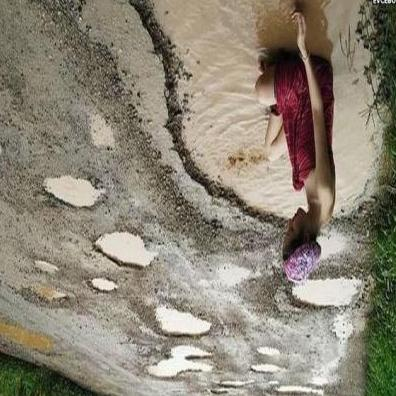pothole: (134, 0, 395, 240), (288, 277, 369, 317), (146, 343, 218, 387), (42, 173, 102, 215), (150, 304, 213, 342), (96, 229, 157, 267), (16, 285, 74, 312), (274, 383, 322, 396), (87, 275, 121, 293), (27, 259, 59, 276), (248, 363, 286, 377), (217, 378, 255, 390), (255, 345, 287, 357), (206, 389, 231, 395), (0, 127, 3, 166)
